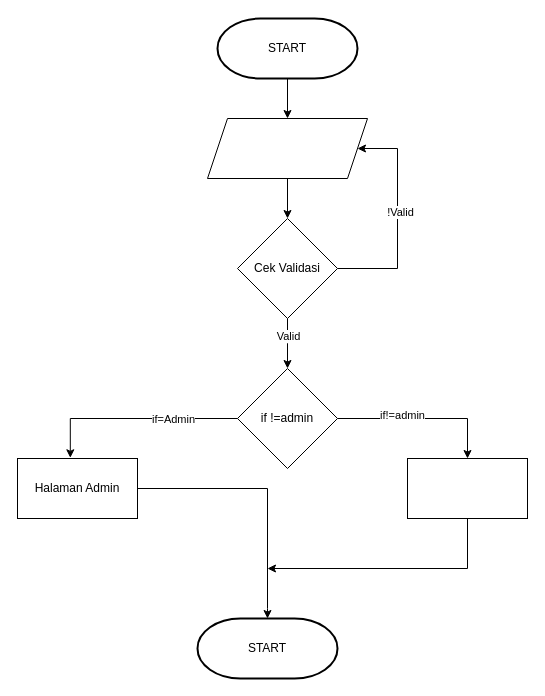
Some shapes in this 545 by 696 pixel diagram are drawn without their labels. Here are the shapes that lost their labels. From the top down, the centre of each, then its label:
At (x=287, y=148): "input user & Pass".
At (x=467, y=488): "Halaman User".
